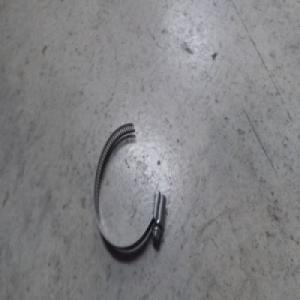AdjustableClamp: (93, 123, 169, 251)
